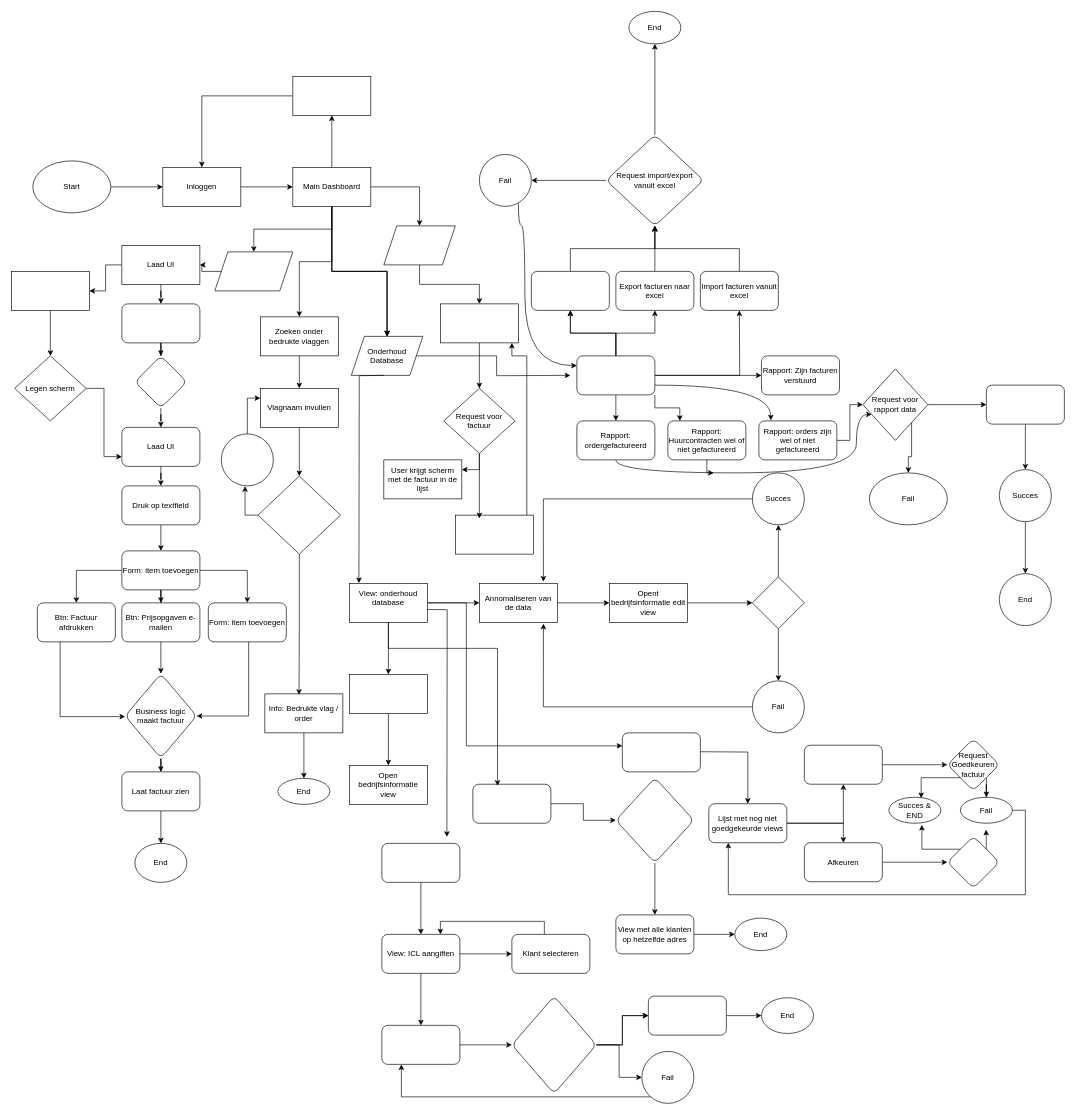
Image size: 1076x1115. Some labels were removed from this diagram. Here are the shapes that lost their labels. From the top down, the box of each, then its label:
(292, 76, 371, 115): Selecteer werknemer / Uitloggen
(383, 225, 455, 265): Zoeken factuur
(11, 271, 89, 310): Nieuw knop
(214, 251, 293, 291): Klanten systeem
(531, 271, 609, 310): Export artikellen voor voorraad overzicht
(121, 303, 200, 343): Zoeken
(440, 303, 518, 343): User geeft factuurnummer
(134, 355, 187, 408): Request Customers
(576, 355, 655, 395): Menu: Import / Export
(986, 384, 1064, 424): Rapport view
(221, 433, 273, 486): Geen resultaat
(257, 475, 341, 554): Request bedrukte vlag
(455, 514, 533, 554): User krijgt een scherm zonder facturen in de lijst
(752, 576, 804, 629): Request for edit
(349, 674, 427, 713): Bedrijfsinformatie
(622, 732, 700, 772): Factuur goedkeuren
(804, 745, 882, 784): Goedkeuren
(472, 784, 551, 823): Verschillende klanten op zelfde adres
(615, 777, 694, 863): Request voor zelfde adressen
(381, 843, 460, 882): ICL Aangiften
(947, 836, 999, 888): Request afkeur factuur
(648, 995, 726, 1035): Opent Excel
(381, 1025, 460, 1064): Btn: Export naar Excel
(511, 995, 596, 1094): Request: Convert data in een excel map
